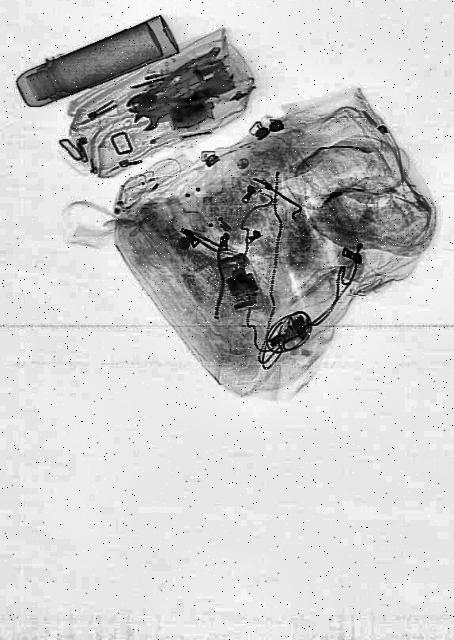Pliers: (123, 48, 230, 134)
Wrench: (133, 82, 213, 138)
